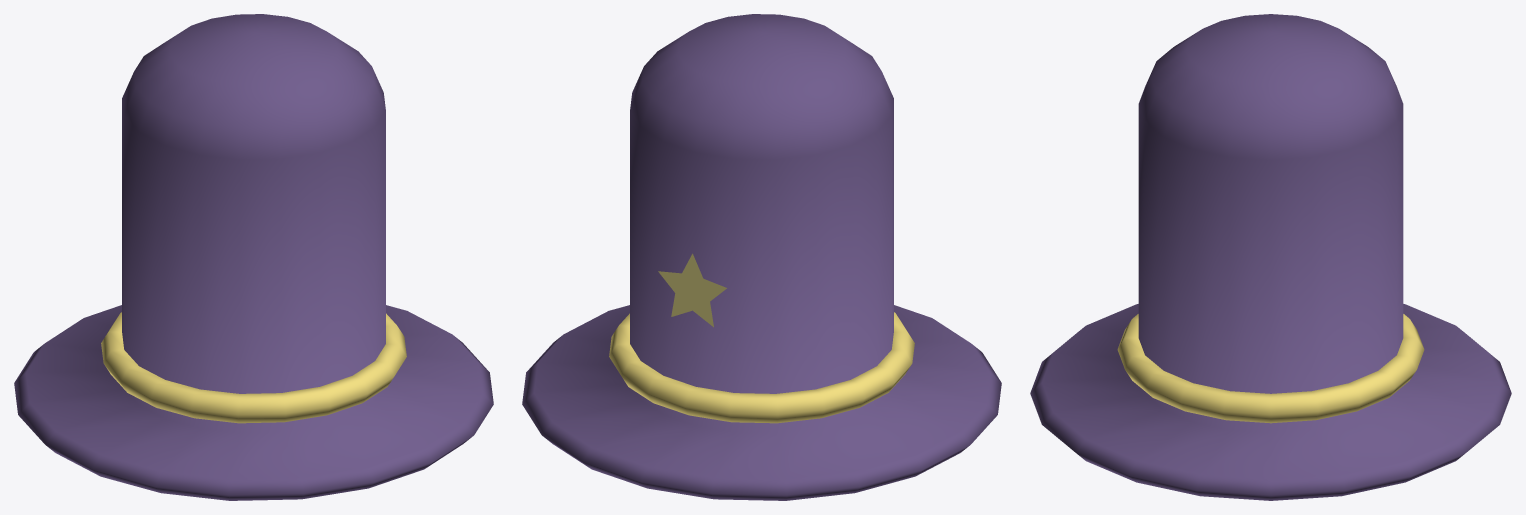
Rendered from MagicHat.fbx.
3 renders of one model, left to right at view 1: azimuth 30°, elevation 25°; view 2: azimuth 150°, elevation 25°; view 3: azimuth 270°, elevation 25°, orthographic.
Parts seen in each view (by area): view 1: MagicHat; view 2: MagicHat; view 3: MagicHat.
Part boxes in pixels (<box>): MagicHat: <box>14,14,493,500</box>; MagicHat: <box>522,14,1001,500</box>; MagicHat: <box>1030,14,1511,500</box>.
Bounding box in the file's own units: 0.8 × 0.68 × 0.8.
